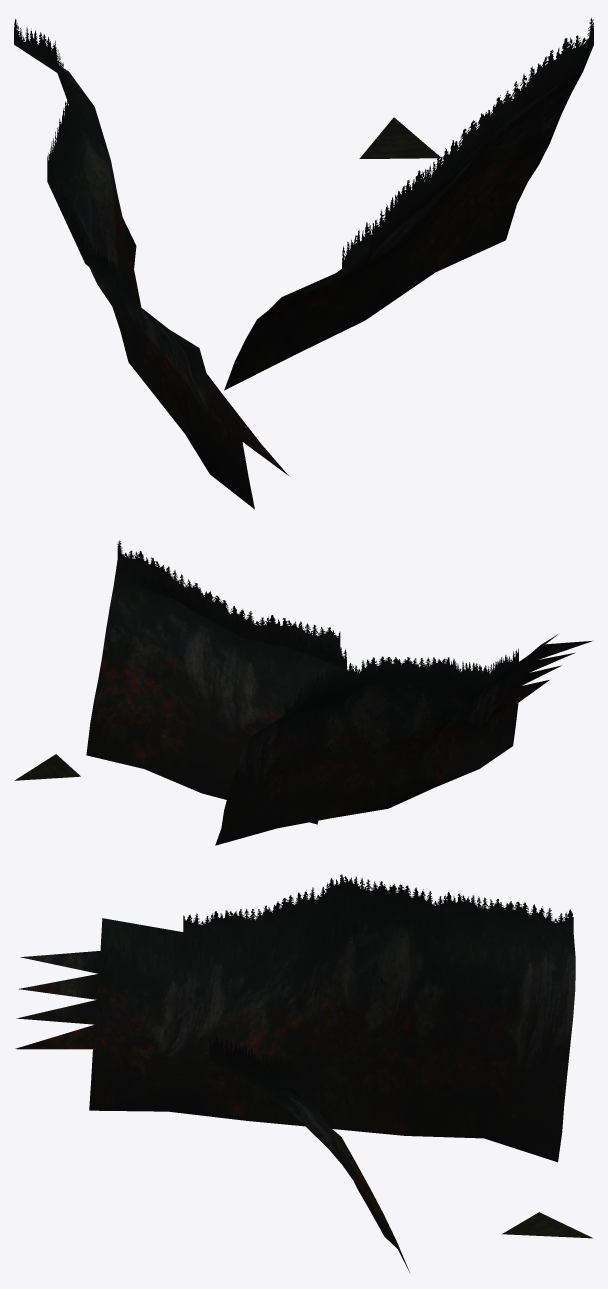
File: cell_-2_-8.gltf
The picture shows the model from 3 angles, top to bottom: view 1: azimuth 30°, elevation 25°; view 2: azimuth 150°, elevation 25°; view 3: azimuth 270°, elevation 25°; orthographic projection. The views are drawn at different scales.
Parts seen in each view (by area): view 1: cell_-2_-8; view 2: cell_-2_-8; view 3: cell_-2_-8.
Boxes of the visible parts, left/top/right/bottom form: cell_-2_-8: left=14, top=18, right=593, bottom=509; cell_-2_-8: left=14, top=540, right=593, bottom=845; cell_-2_-8: left=15, top=874, right=592, bottom=1272.
Size of the model in its own units: 267 by 150 by 296.
Materials: 3 (3 with a texture image).
